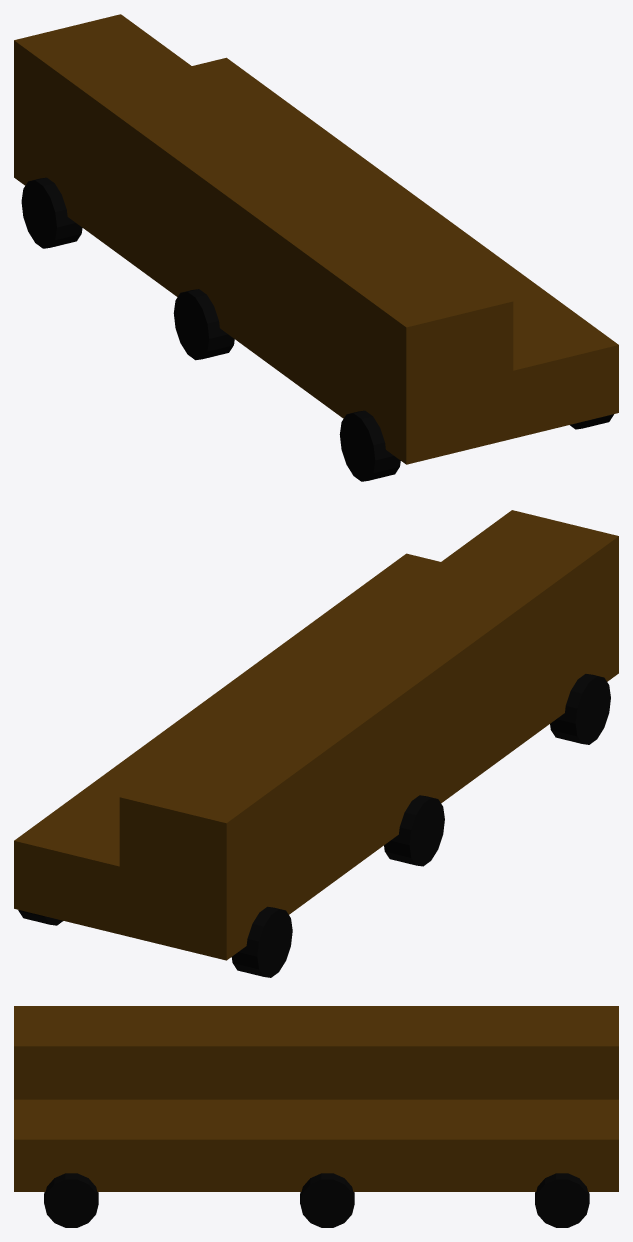
The model's file is Tribune.fbx.
3 renders of one model, top to bottom at view 1: azimuth 30°, elevation 25°; view 2: azimuth 150°, elevation 25°; view 3: azimuth 270°, elevation 25°, orthographic. The views are drawn at different scales.
Parts seen in each view (by area): view 1: Tribune, Tribune_BackWheel_Left, Tribune_MiddleWheel_Left, Tribune_FrontWheel_Left; view 2: Tribune, Tribune_MiddleWheel_Left, Tribune_FrontWheel_Left, Tribune_BackWheel_Left; view 3: Tribune, Tribune_FrontWheel_Right, Tribune_MiddleWheel_Right, Tribune_BackWheel_Right.
Boxes of the visible parts, <box> form: Tribune: <box>14,14,618,464</box>; Tribune_BackWheel_Left: <box>339,410,400,481</box>; Tribune_MiddleWheel_Left: <box>173,289,234,360</box>; Tribune_FrontWheel_Left: <box>21,177,82,248</box>; Tribune: <box>14,510,618,960</box>; Tribune_MiddleWheel_Left: <box>384,795,444,866</box>; Tribune_FrontWheel_Left: <box>231,906,292,977</box>; Tribune_BackWheel_Left: <box>550,674,610,744</box>; Tribune: <box>14,1006,618,1191</box>; Tribune_FrontWheel_Right: <box>535,1173,589,1227</box>; Tribune_MiddleWheel_Right: <box>300,1173,354,1227</box>; Tribune_BackWheel_Right: <box>44,1173,98,1227</box>.
Size of the model in its own units: 115 by 80.12 by 324.
